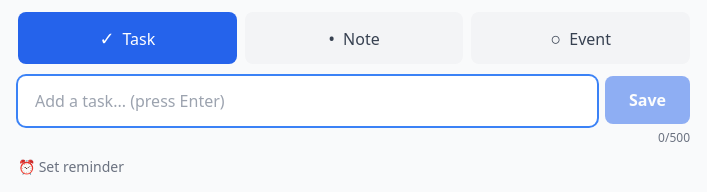
Scenario: EntryInput › Save button › should enable Save button when input has content
This screenshot has width=707, height=192.
In the field with placeholder "Add a task... (press Enter)": (308, 101) left=18, top=76, right=597, bottom=126, type "Test task"
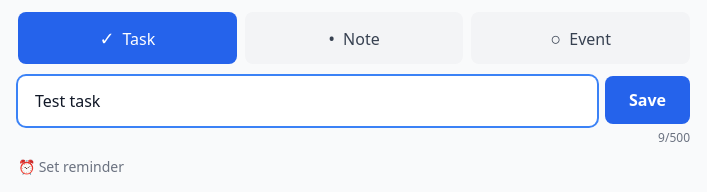
Result: the button "Save" is enabled at left=605, top=76, right=690, bottom=124
